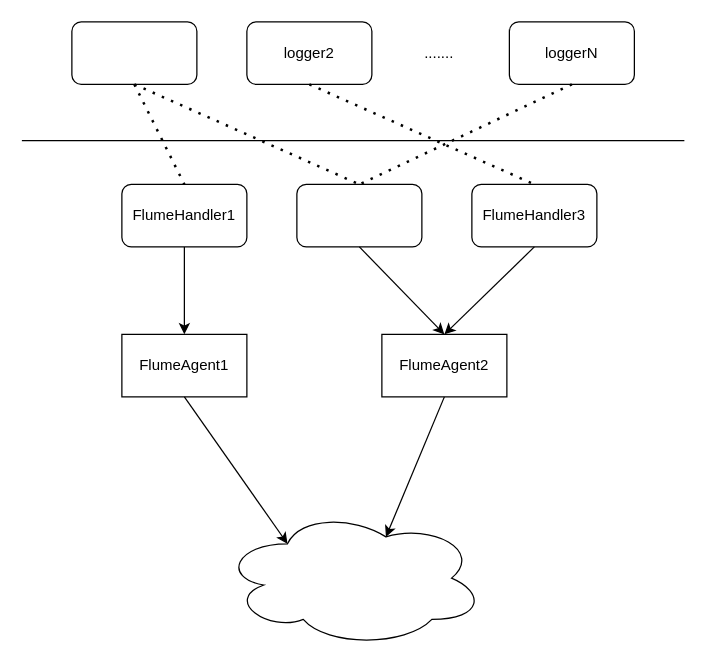
Some shapes in this 708 by 669 pixel diagram are drawn without their labels. Each missing label, with the centre of its shape:
Flume Server: (x=352, y=577)
FlumeHandler2: (x=359, y=215)
logger1: (x=134, y=52)
